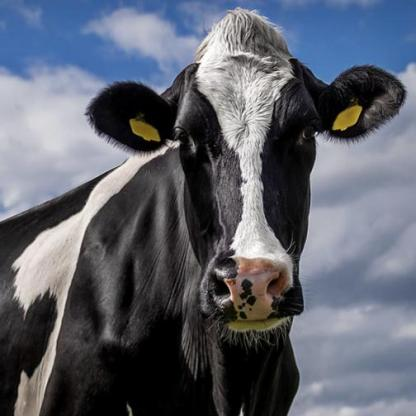cow: (0, 16, 407, 416)
